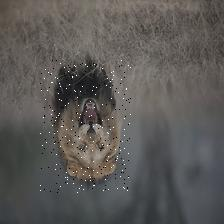Lion: (39, 60, 130, 193)
